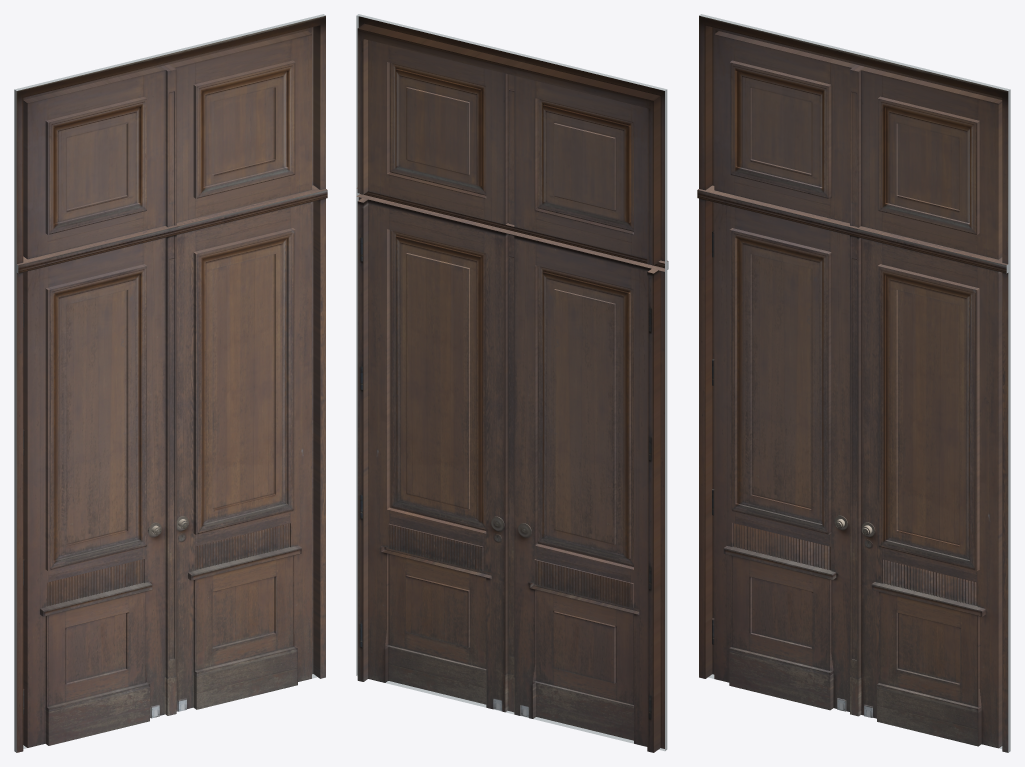
The model's file is Door.fbx.
The picture shows the model from 3 angles, left to right: view 1: azimuth 30°, elevation 25°; view 2: azimuth 150°, elevation 25°; view 3: azimuth 330°, elevation 25°; orthographic projection.
Visible parts, largest first — view 1: Door; view 2: Door; view 3: Door.
Part boxes in pixels (bbox=[...]): Door: bbox=[14, 14, 327, 752]; Door: bbox=[356, 14, 668, 752]; Door: bbox=[697, 14, 1010, 752].
Bounding box in the file's own units: 37.39 × 76.45 × 1.72.
